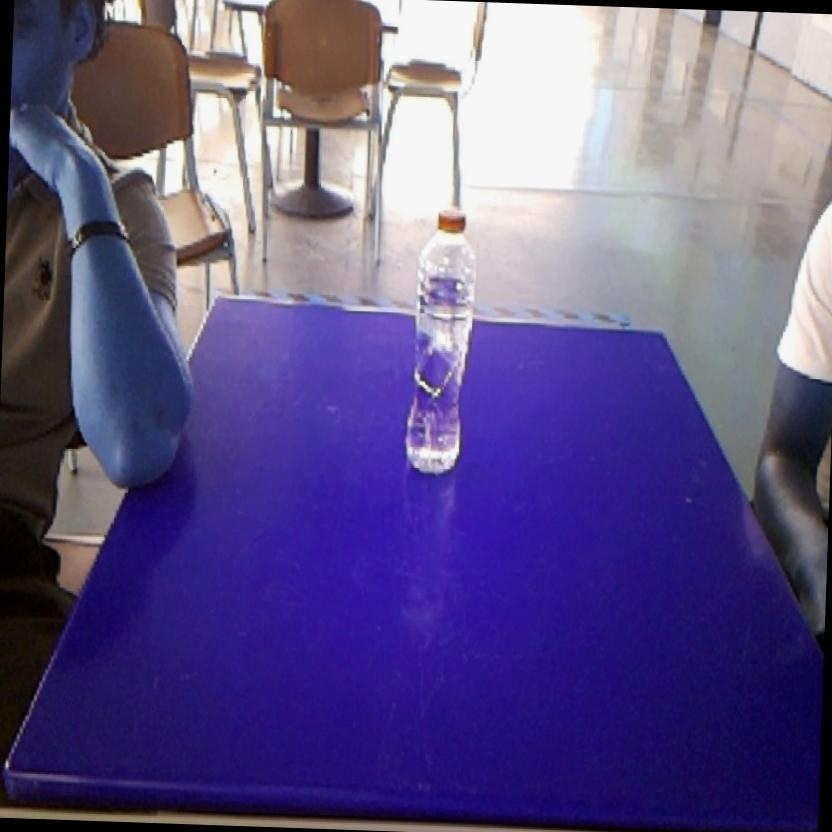no_label: (396, 194, 487, 484)
